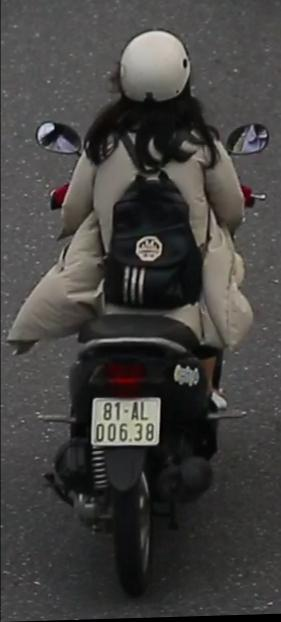LP: (88, 390, 164, 450)
helmet: (110, 22, 208, 139)
